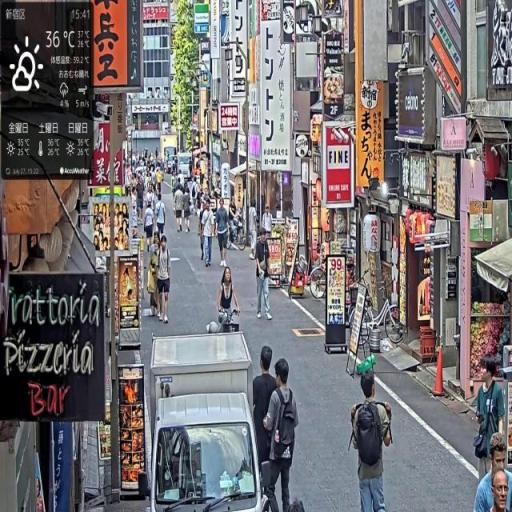person: (350, 368, 396, 512), (263, 358, 300, 512), (471, 356, 506, 487), (253, 347, 279, 502), (474, 430, 510, 512), (254, 228, 275, 323), (216, 267, 243, 332), (156, 234, 173, 324), (199, 199, 216, 271), (216, 195, 231, 268), (144, 200, 156, 253), (183, 188, 194, 236)
